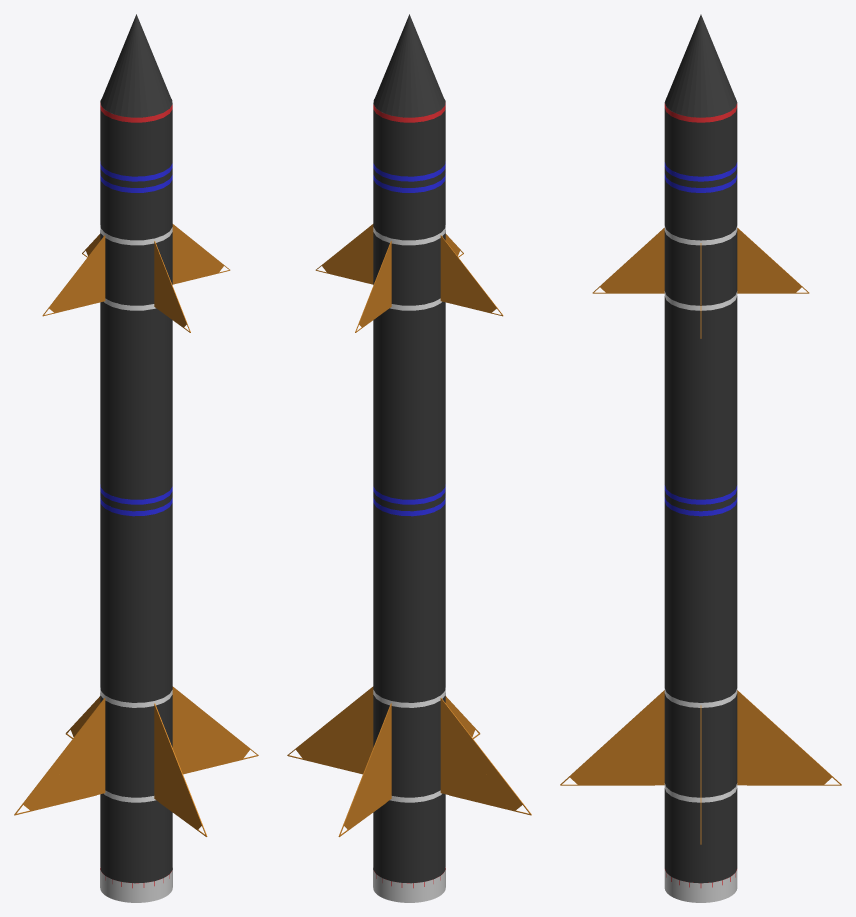
File: AIM-7 Sparrow.fbx
The picture shows the model from 3 angles, left to right: view 1: azimuth 30°, elevation 25°; view 2: azimuth 150°, elevation 25°; view 3: azimuth 270°, elevation 25°; orthographic projection.
Visible parts, largest first — view 1: Main_Body, Cone, Cube__1__3, Cube__2__3, Cube__1__1, hollow_rocket, Cube__4__3, Cube__1__2, Cube__3__3, Cube__6__3, Cube__2__1, Cube__4__2 (+4 smaller); view 2: Main_Body, Cone, Cube__1__3, Cube__2__3, Cube__1__1, Cube__5__3, hollow_rocket, Cube__3__3, Cube__4__3, Cube__1__2, Cube__2__1, Cube__3__2 (+5 smaller); view 3: Main_Body, Cube__1__2, Cone, Cube__2__2, Cube__1_, Cube__5__2, hollow_rocket, Cube__4__2, Cube__3__2, Cube__6__2, Cube__2_, Cube__5_ (+2 smaller).
Part boxes in pixels (box(x1,y1,x2,y2)): Main_Body: box(100, 99, 172, 883); Cone: box(100, 14, 172, 117); Cube__1__3: box(43, 733, 229, 807); Cube__2__3: box(69, 712, 204, 771); Cube__1__1: box(65, 253, 208, 310); hollow_rocket: box(100, 868, 172, 902); Cube__4__3: box(23, 699, 105, 810); Cube__1__2: box(82, 718, 189, 824); Cube__3__3: box(172, 687, 249, 759); Cube__6__3: box(59, 724, 214, 776); Cube__2__1: box(84, 237, 188, 283); Cube__4__2: box(154, 705, 201, 829); Main_Body: box(373, 99, 445, 883); Cone: box(373, 14, 445, 117); Cube__1__3: box(316, 733, 502, 807); Cube__2__3: box(341, 713, 476, 774); Cube__1__1: box(337, 253, 480, 310); Cube__5__3: box(303, 749, 515, 810); hollow_rocket: box(373, 868, 445, 902); Cube__3__3: box(296, 687, 373, 758); Cube__4__3: box(440, 699, 522, 810); Cube__1__2: box(356, 717, 463, 823); Cube__2__1: box(357, 237, 461, 283); Cube__3__2: box(344, 705, 391, 829); Main_Body: box(664, 100, 737, 883); Cube__1__2: box(593, 756, 808, 785); Cone: box(665, 14, 736, 117); Cube__2__2: box(622, 728, 779, 757); Cube__1_: box(618, 270, 783, 293); Cube__5__2: box(578, 771, 823, 785); hollow_rocket: box(664, 869, 737, 902); Cube__4__2: box(570, 691, 664, 785); Cube__3__2: box(737, 691, 832, 784); Cube__6__2: box(611, 743, 790, 757); Cube__2_: box(640, 249, 761, 272); Cube__5_: box(606, 283, 795, 293).
Size of the model in its own units: 387 by 1325 by 387.
